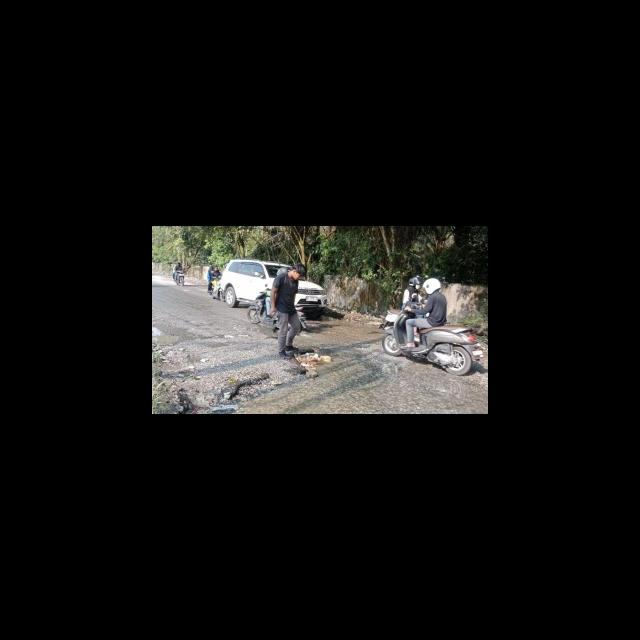lubang_kecil: (216, 368, 282, 407), (290, 348, 332, 377)
